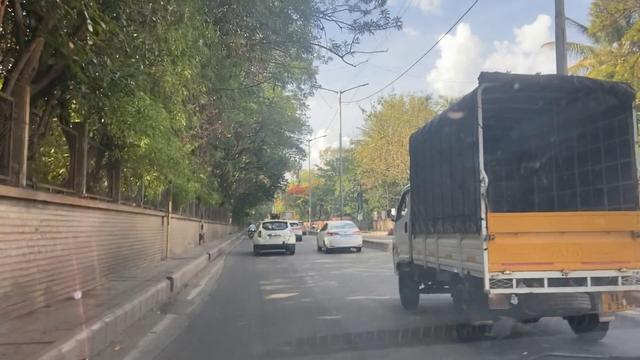HMV: (396, 74, 633, 322)
LMV: (253, 218, 296, 255)
